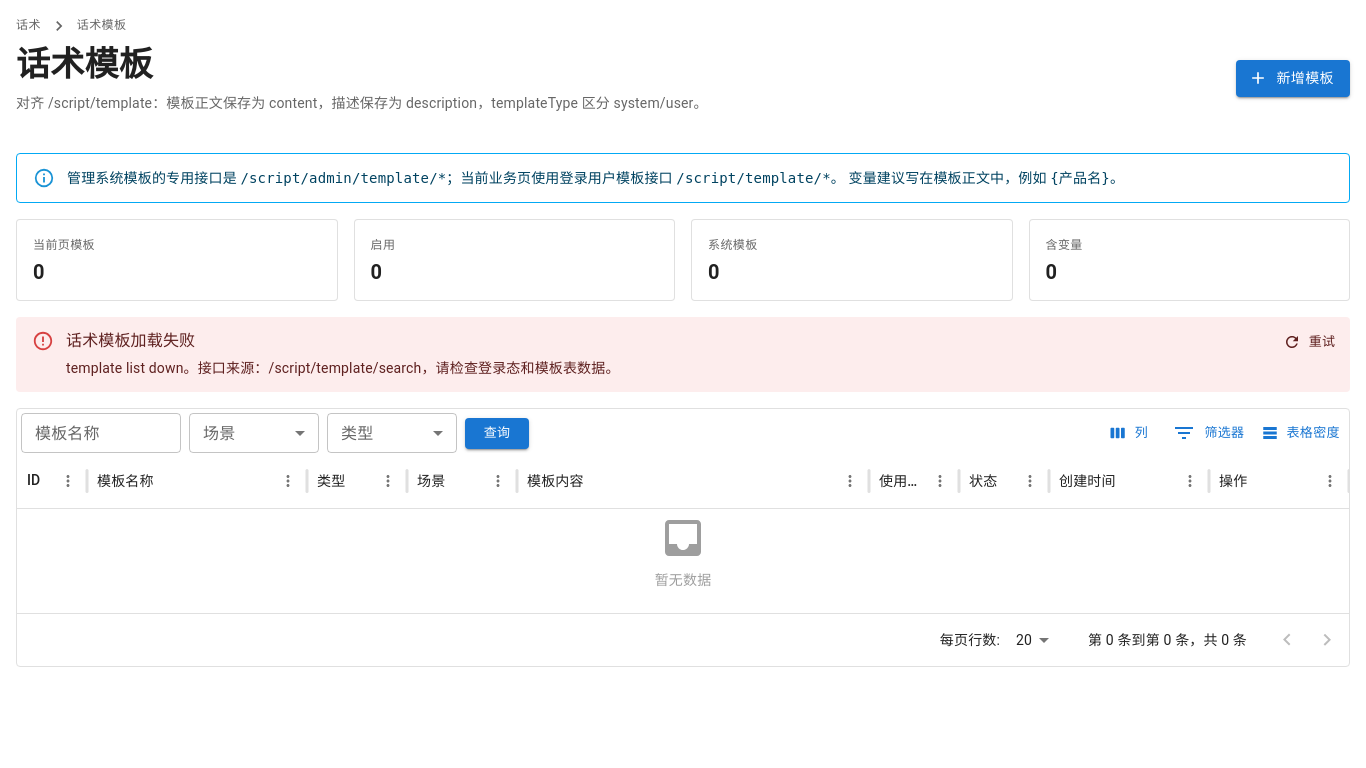
Scenario: ScriptTemplatePage › keeps template load, save, and delete failures visible with endpoint source
Expected: the text "接口来源：/script/template/search" is shown, [66,360,620,376]
Click the button "重试".
click(1310, 342)  # box [1278,327,1342,358]
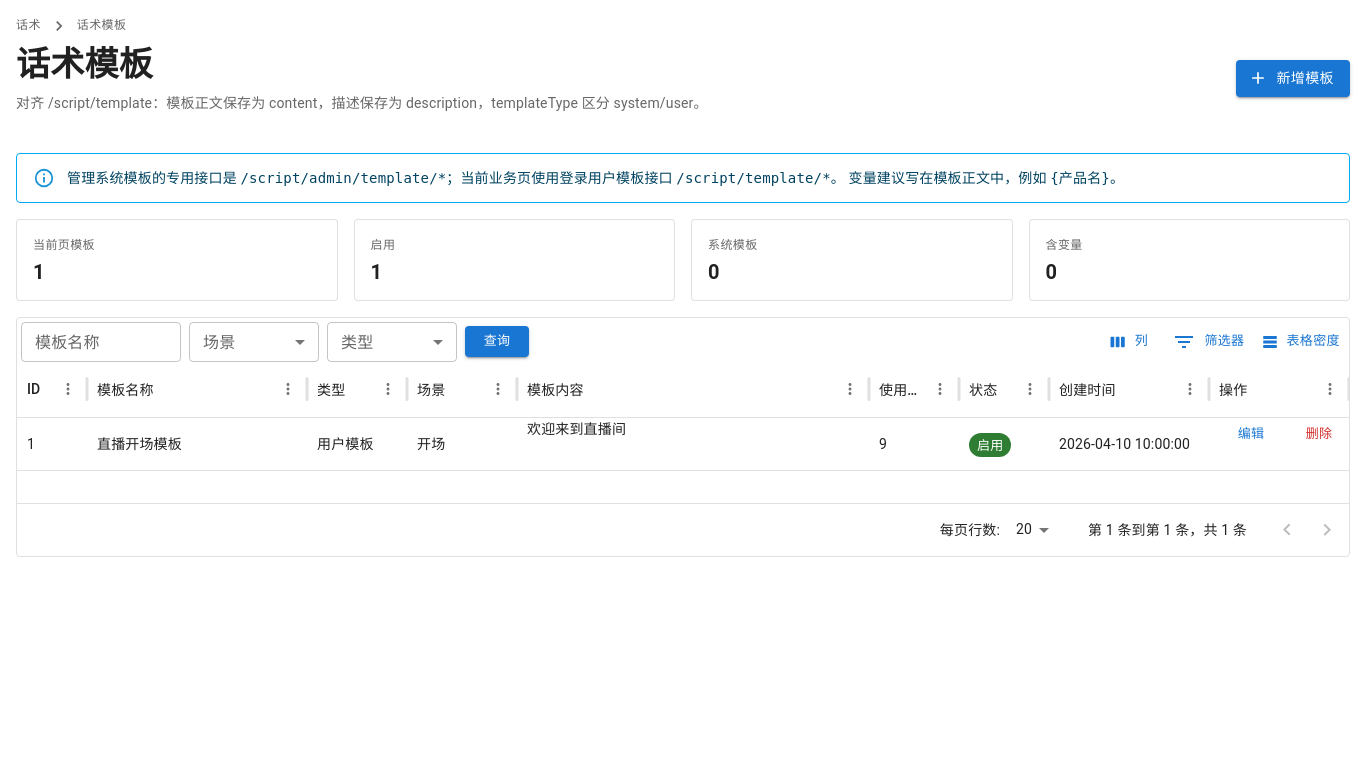
Result: the text "直播开场模板" is shown at [97,436,182,452]
Click the button "编辑".
click(1251, 434)  # box [1219,419,1283,450]
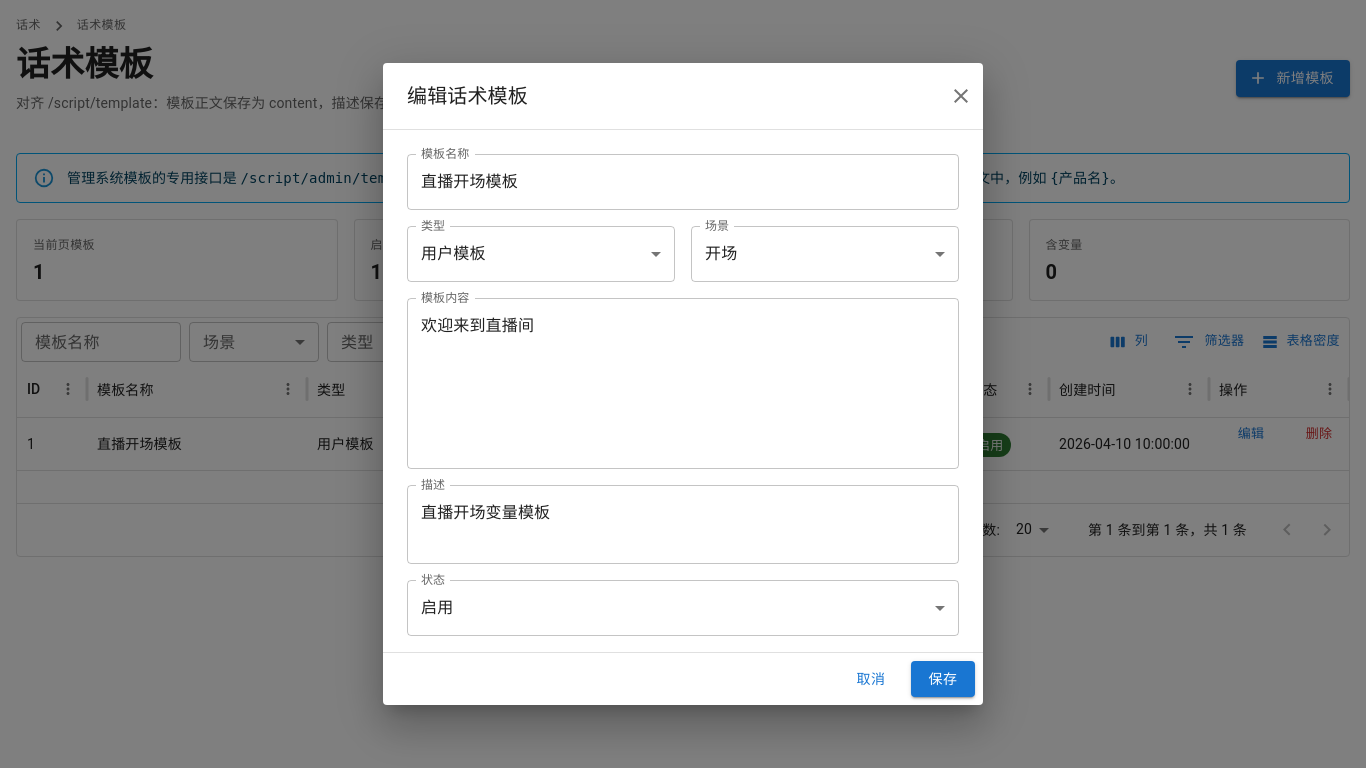
Click the button "保存".
click(943, 679)  # box [911,661,975,697]
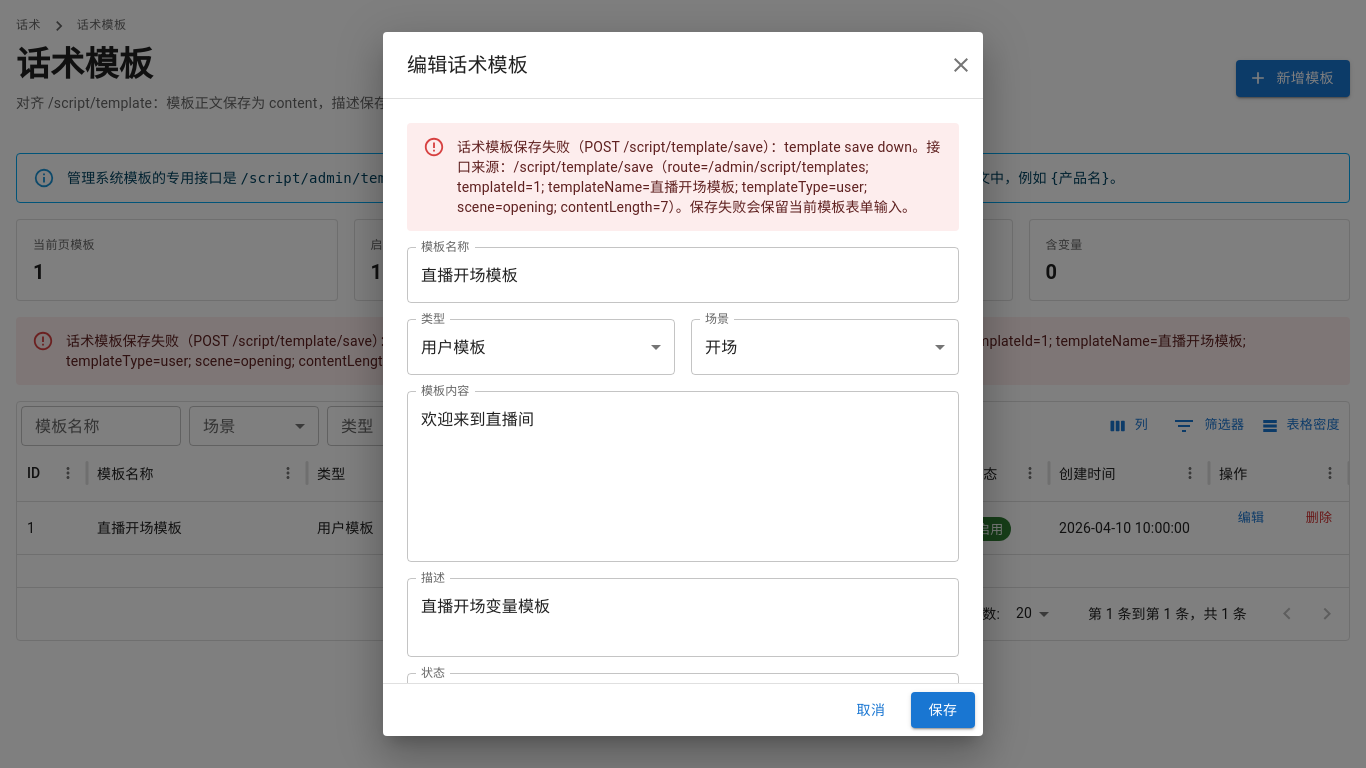
Result: the field labelled "模板名称" holds "直播开场模板" at [407,247,959,303]
Result: the text "templateId=1; templateName=直播开场模板" is shown at [66,333,1246,369]
Click the button "取消".
click(871, 710)  # box [839,692,903,728]
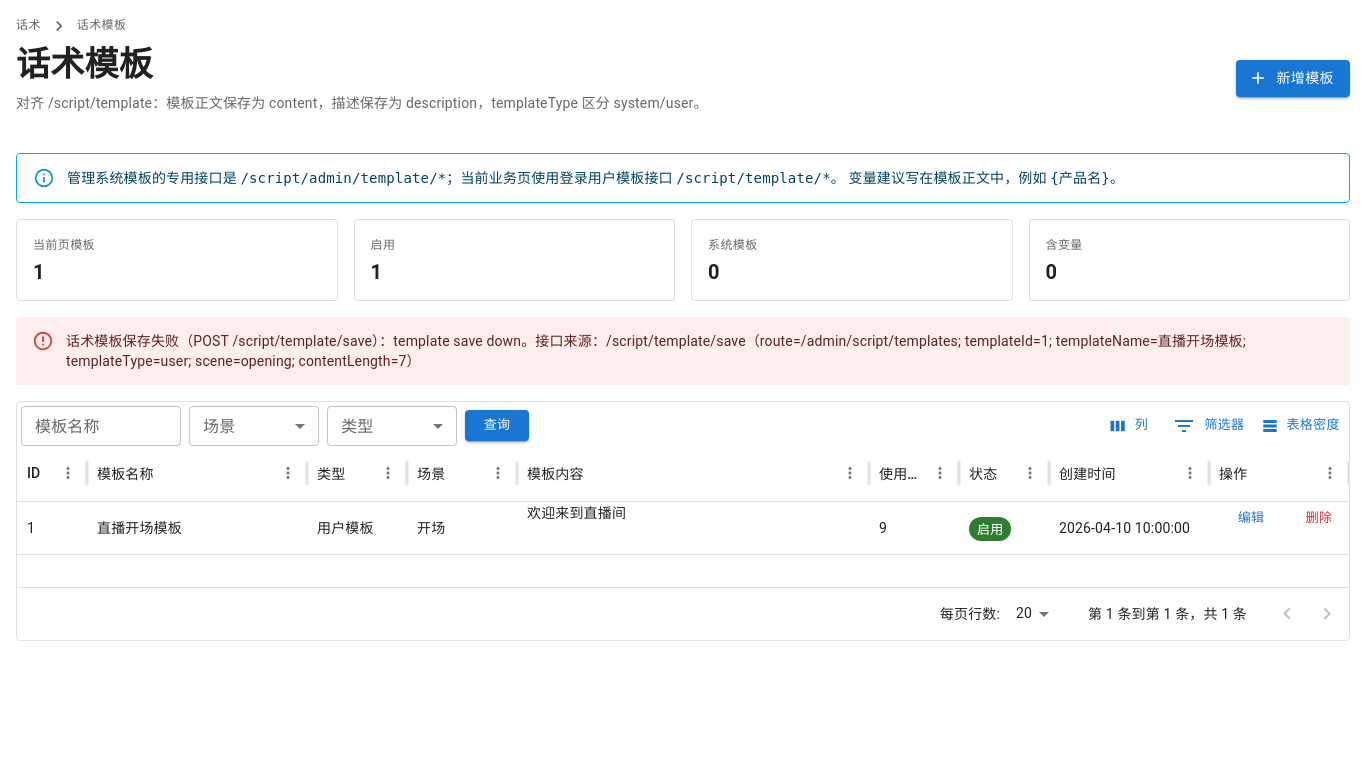
Result: the text "编辑话术模板" is gone
Click the button "删除".
click(1319, 518)  # box [1287,503,1351,534]
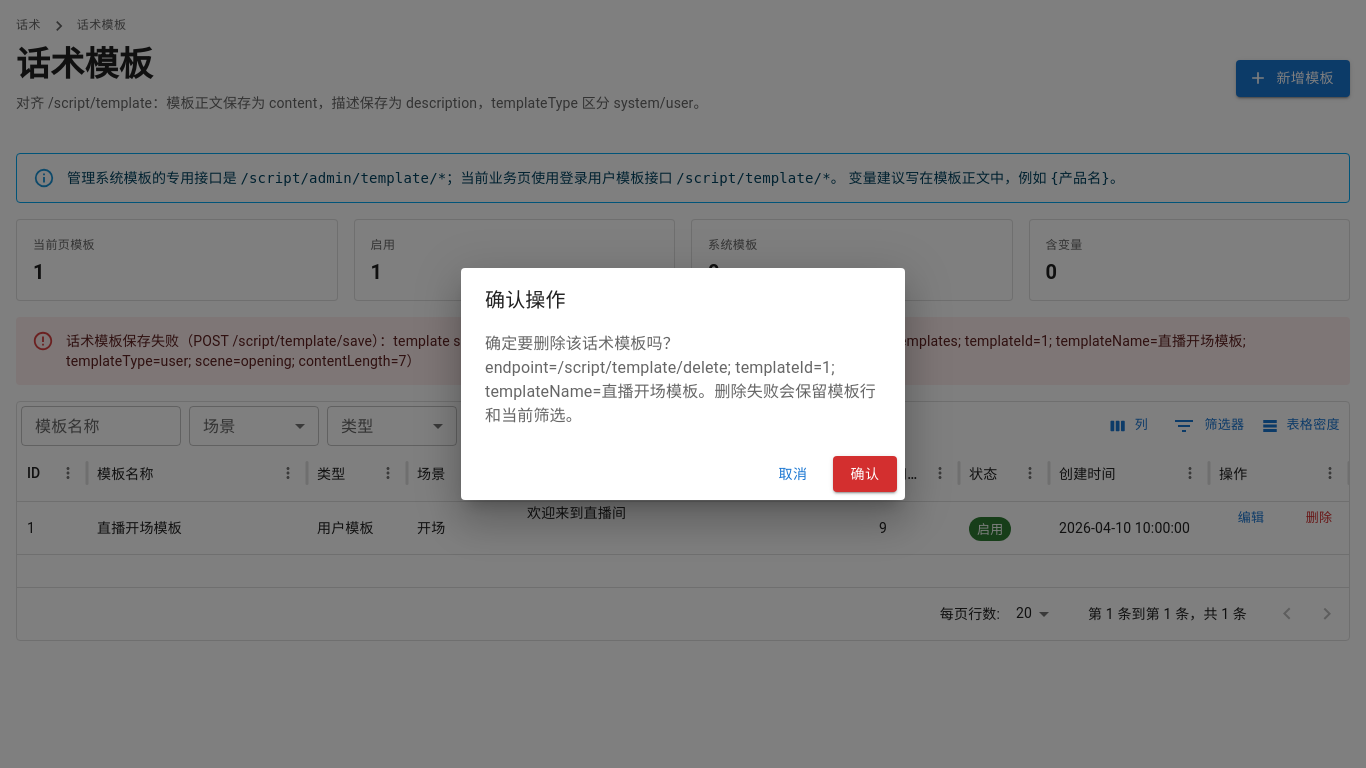
Click the button "确认".
click(865, 474)  # box [833,456,897,492]
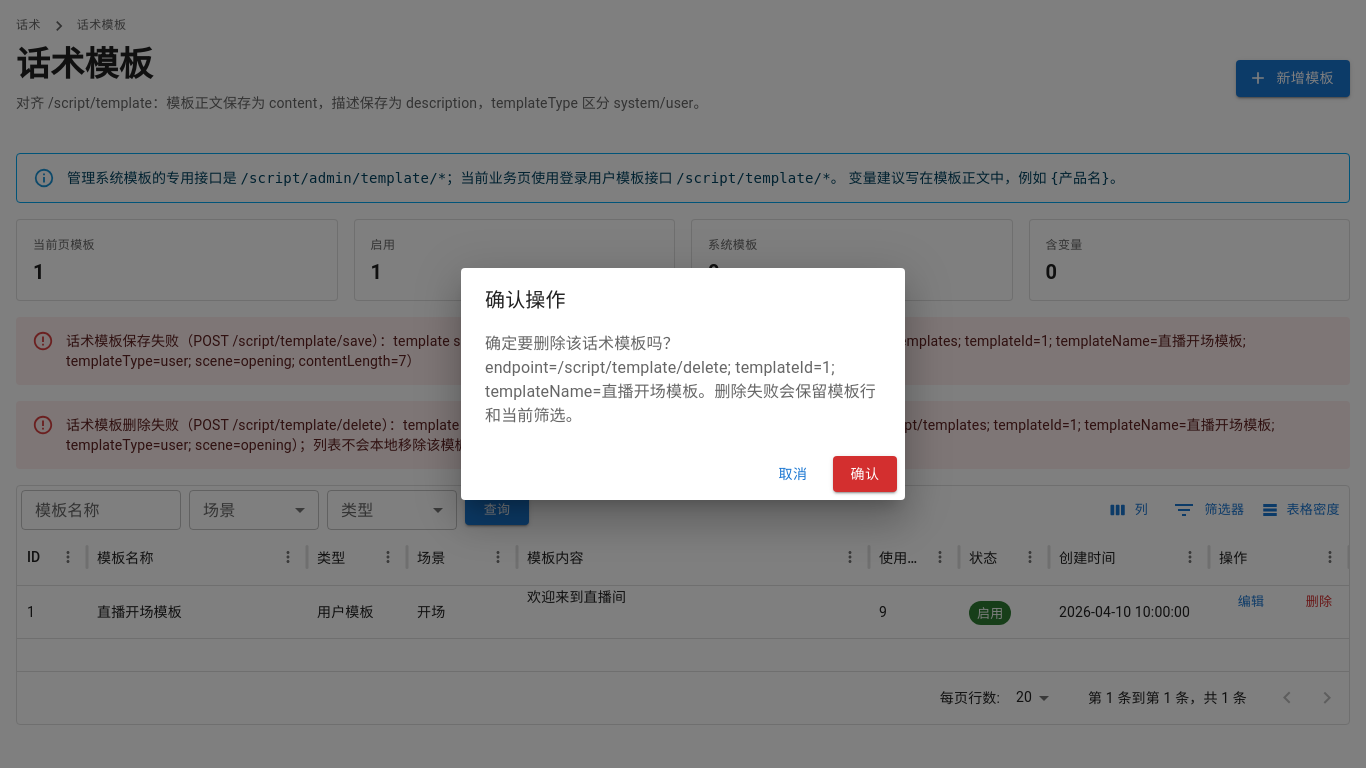
Result: the text "templateId=1; templateName=直播开场模板" is shown at [66,333,1246,369]
Result: the text "直播开场模板" is shown at [97,604,182,620]
Result: the text "接口来源：/script/template/delete" is shown at [66,417,1275,453]
